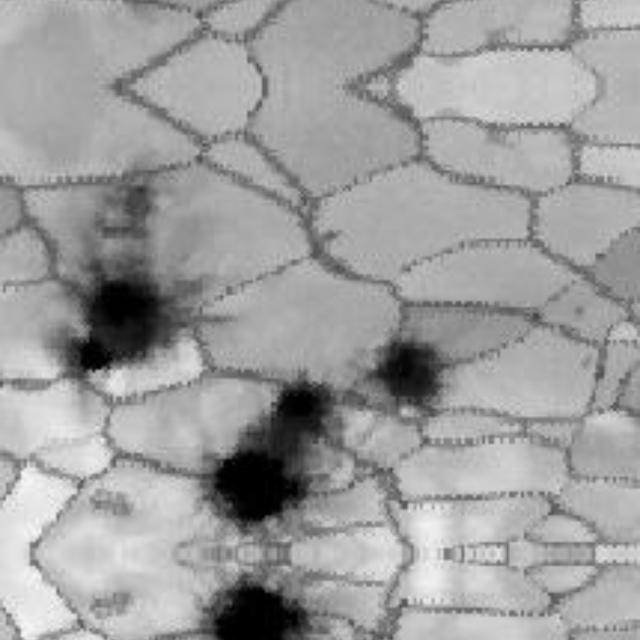good_void: (172, 355, 398, 570), (13, 224, 214, 432), (193, 562, 343, 640), (350, 329, 452, 424), (91, 163, 166, 255), (81, 483, 137, 526), (81, 580, 137, 623)
